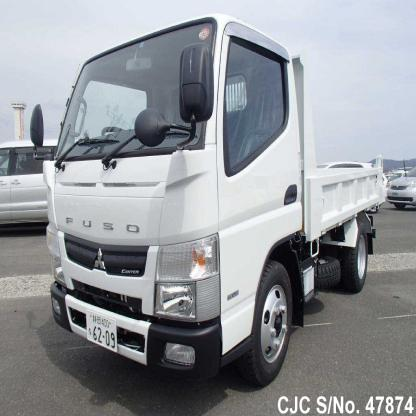truck: (31, 15, 383, 381)
